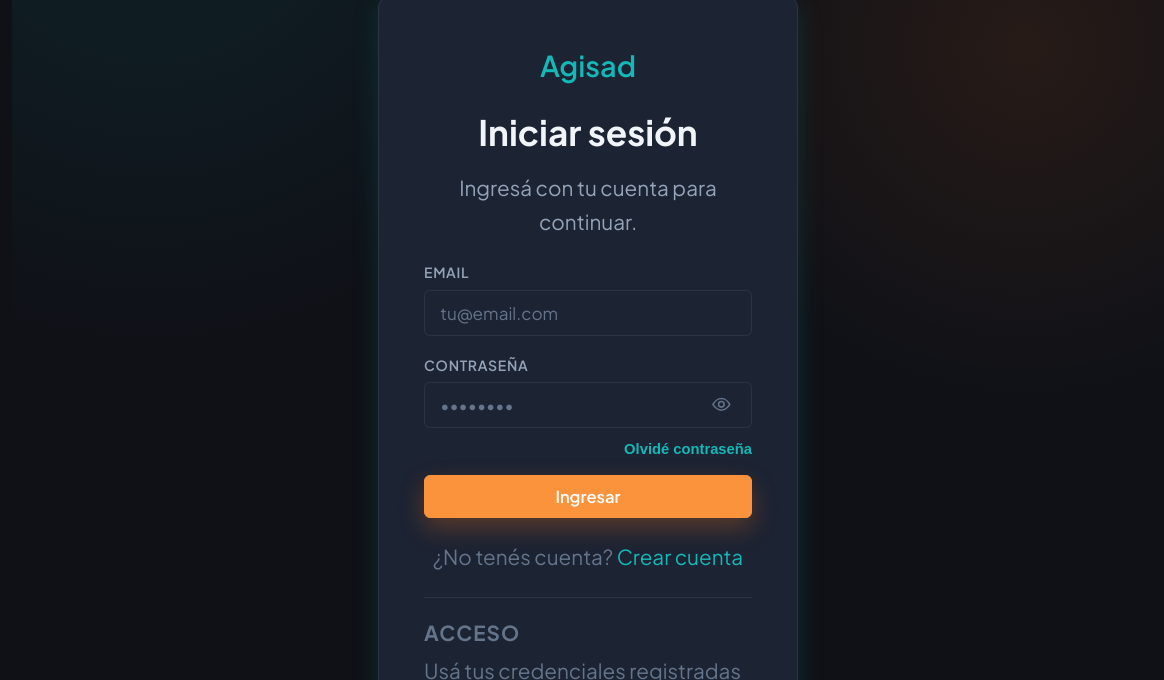
Test: LoginPage › un admin va a /admin
This screenshot has width=1164, height=680.
Type "a@x.com" into the field labelled "Email" at (588, 313), box [424,290,752,336]
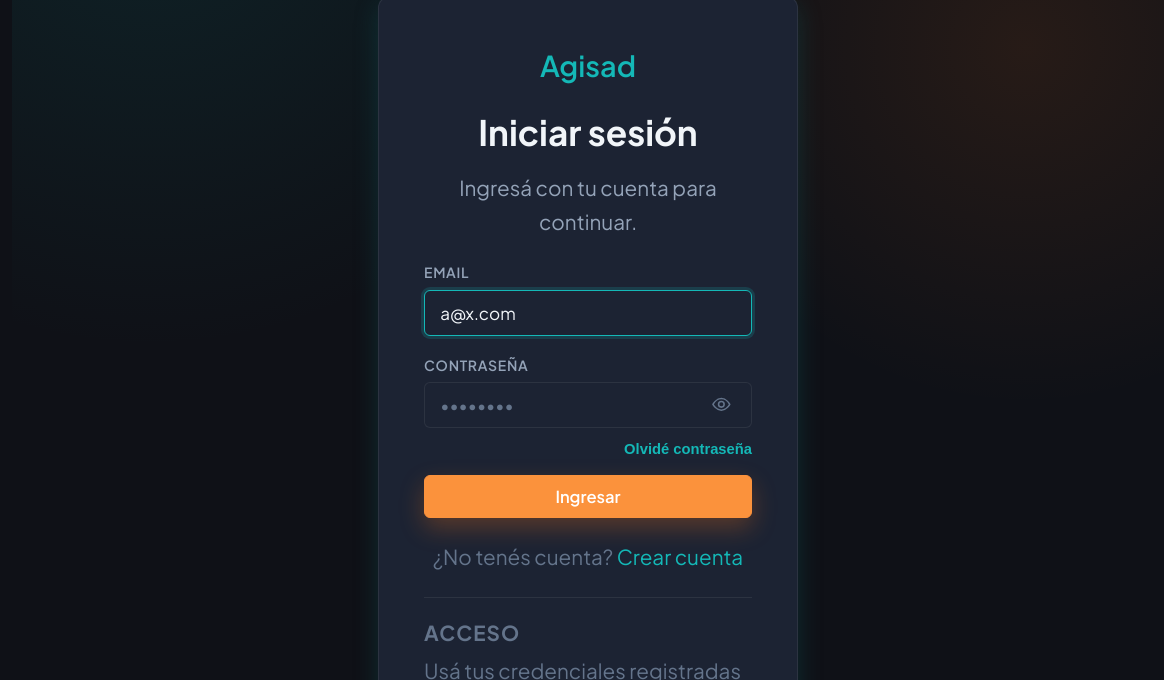
Type "clave1234" into the password field labelled "Contraseña" at (588, 405), box [424,382,752,428]
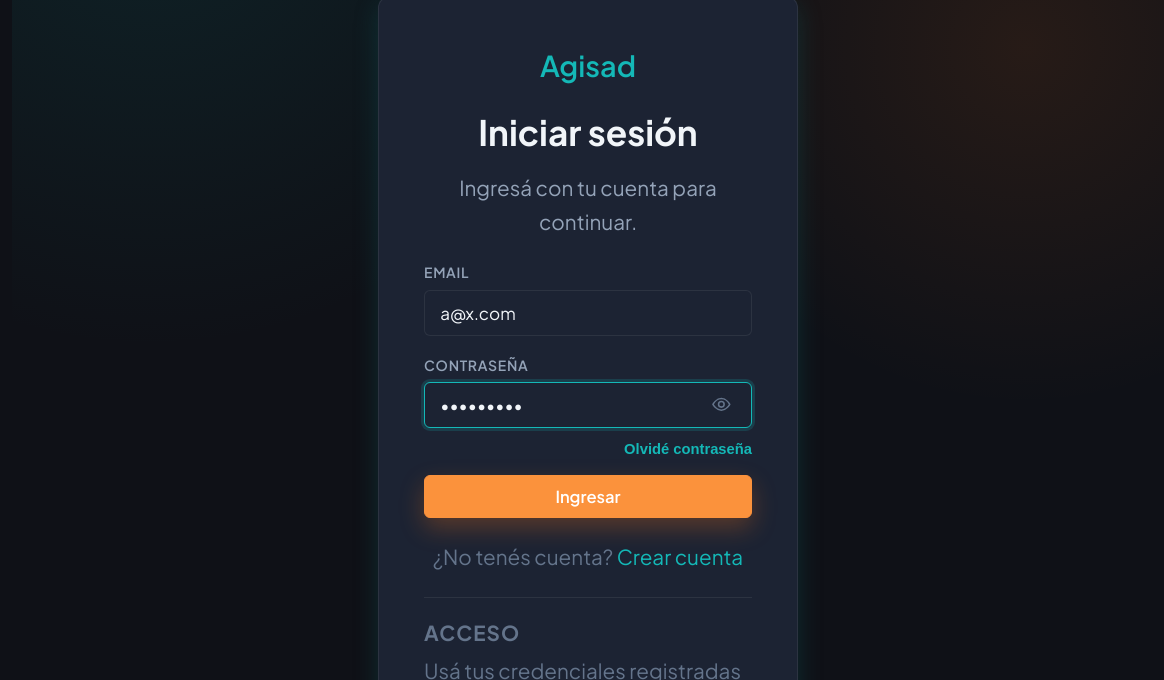
Click the button "Ingresar" at (588, 496), box [424,475,752,518]
(page scrolled)
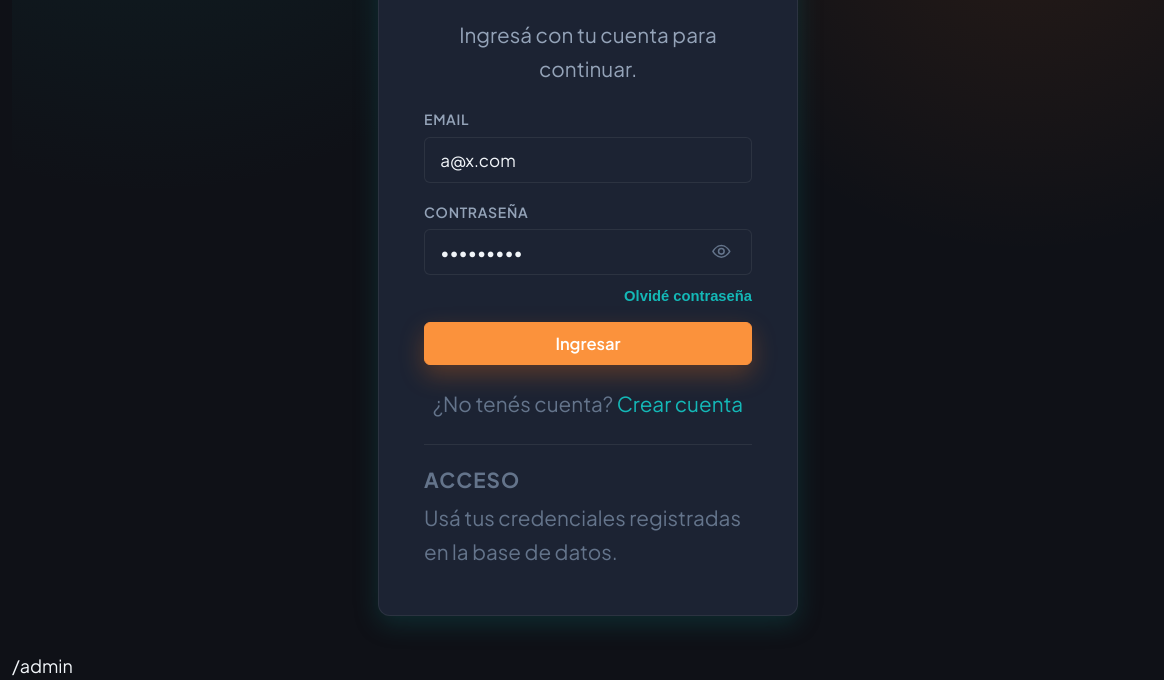
Result: the text with test id "location" reads "/admin" at [12,654,73,676]
